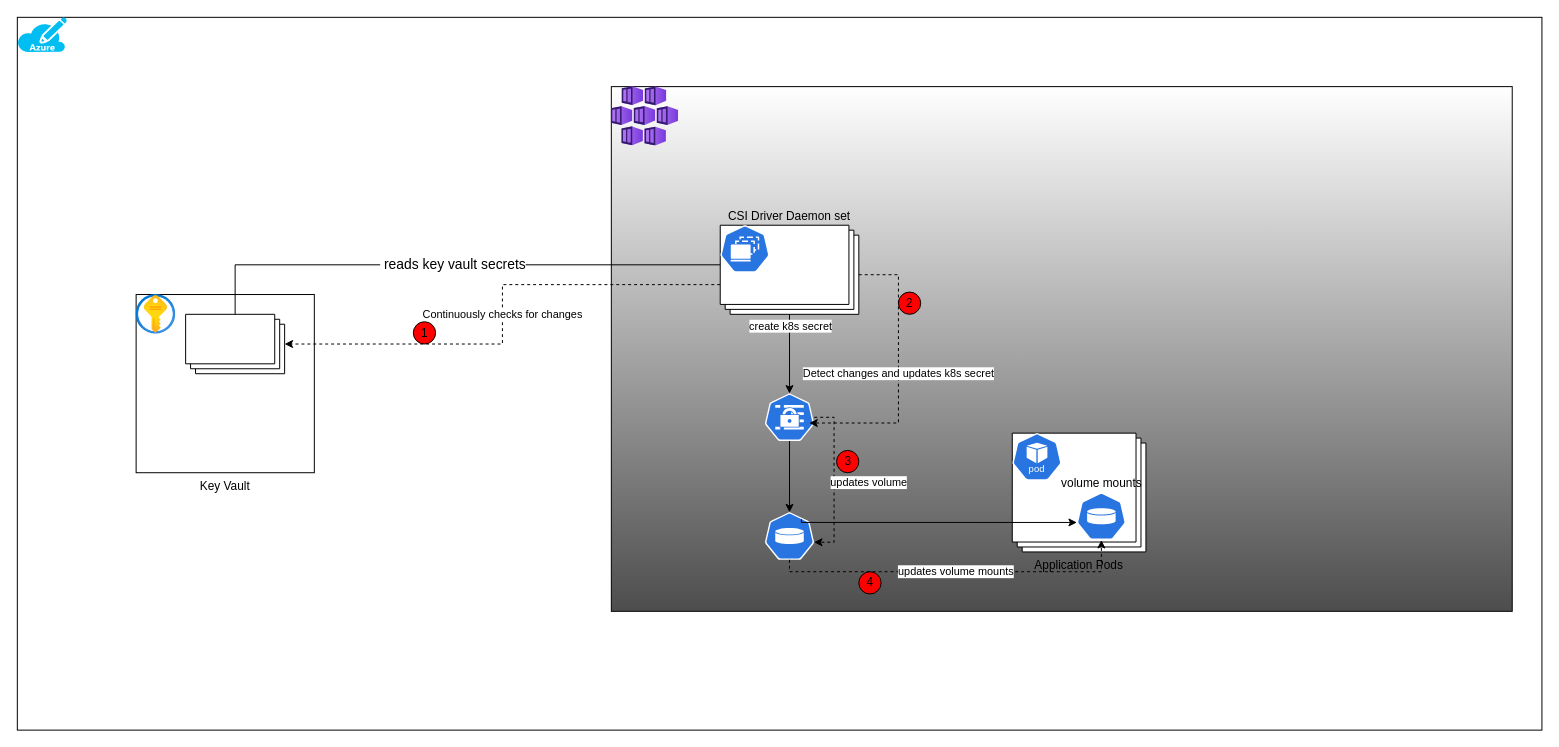
The diagram is 1559 pixels wide and 747 high, and some of its shapes have lost their labels. Each missing label, with the centre of its shape:
"AKS" belongs at pixel 644 116.
"K8s secret" belongs at pixel 789 417.
"secrets" belongs at pixel 235 343.
"Volume" belongs at pixel 789 535.
